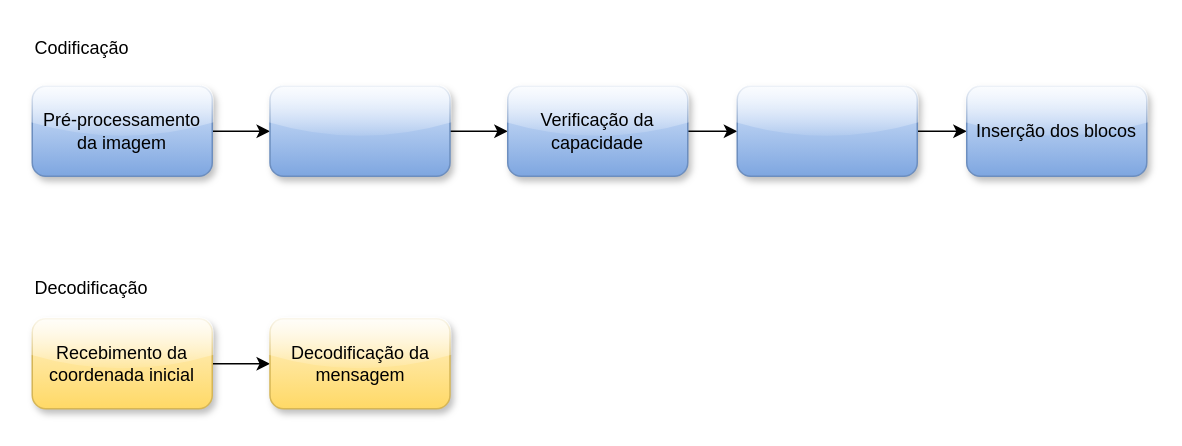
Image size: 1182x446. Some labels were removed from this diagram. Here are the shapes that lost their labels. From the top down, the centre of each, then its label:
(x=360, y=133): Criação do mapa de bordas
(x=828, y=133): Criação do vetor de coordenadas
